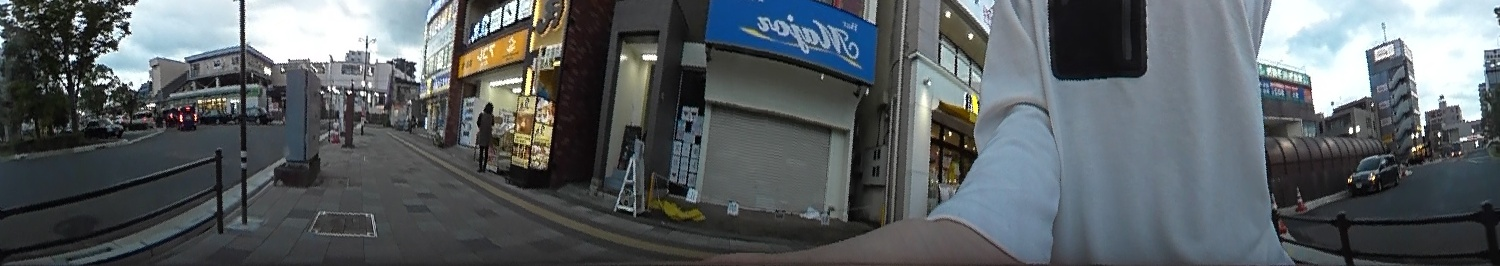person: (472, 95, 496, 169)
